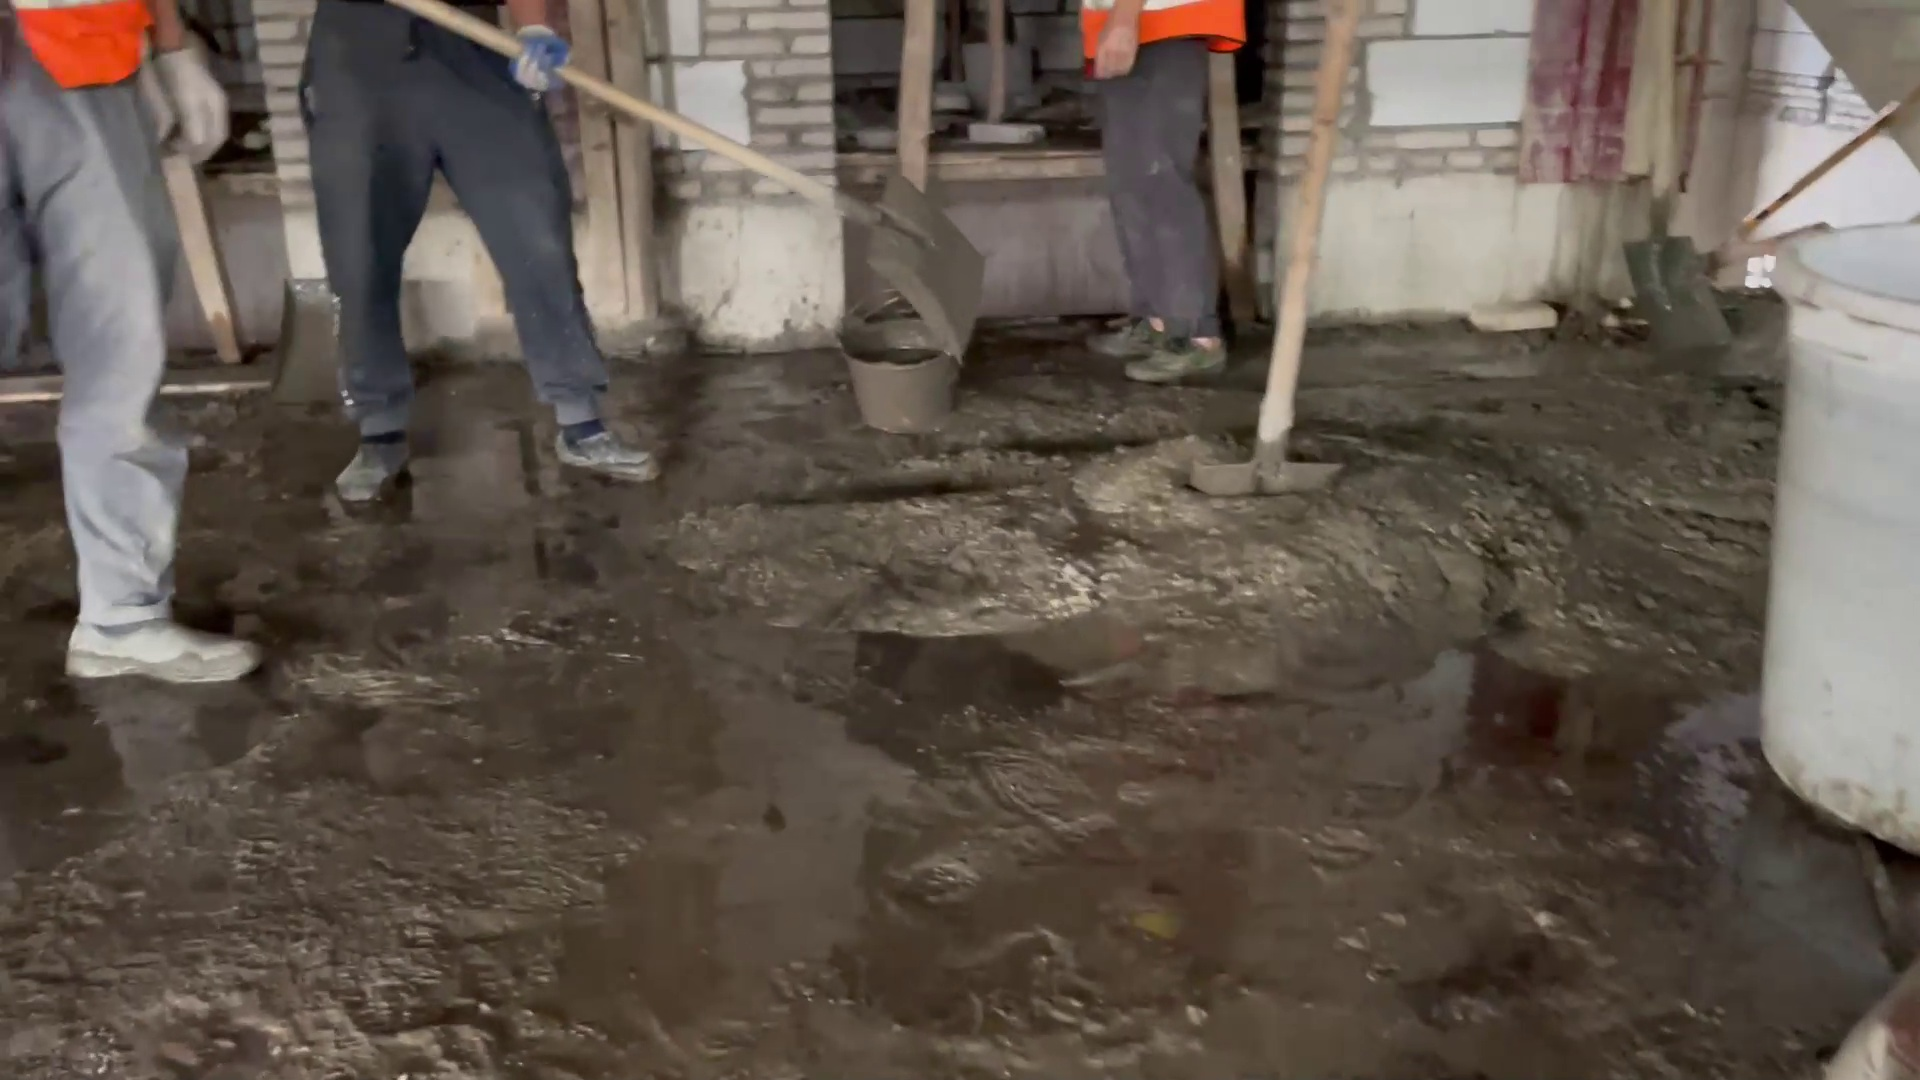person: (295, 1, 688, 498), (1, 10, 283, 700), (1092, 1, 1249, 362)
vest: (8, 1, 165, 94), (1091, 1, 1244, 52)
